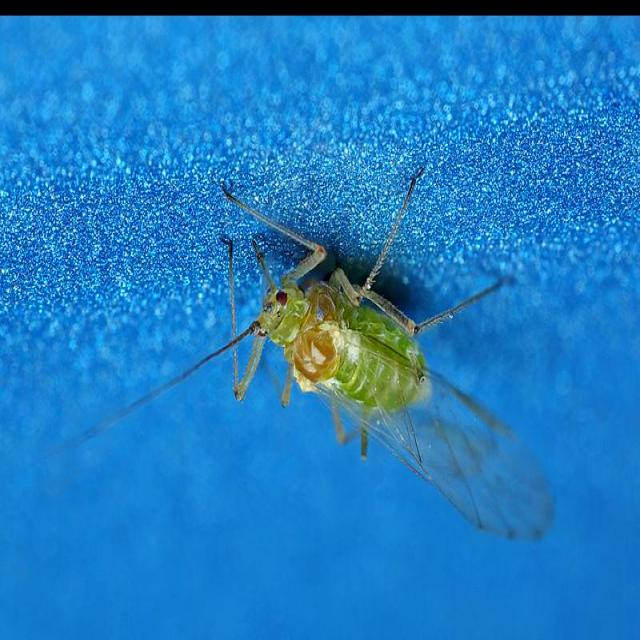Aphids: (165, 160, 512, 443)
